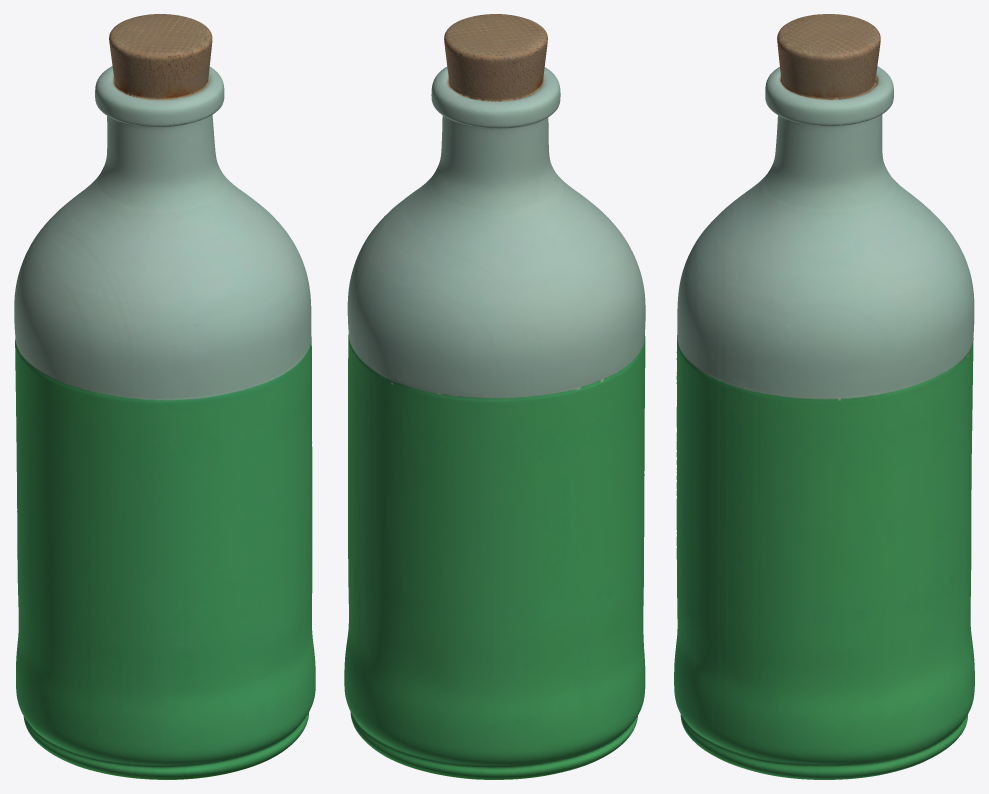
File: detailed_realistic_model_glass_02.glb
3 views of the same model, side by side, from view 1: azimuth 30°, elevation 25°; view 2: azimuth 150°, elevation 25°; view 3: azimuth 270°, elevation 25° (orthographic).
Visible parts, largest first — view 1: tripo_node_f630c77b-d243-4aad-b618-79b6006b86ef; view 2: tripo_node_f630c77b-d243-4aad-b618-79b6006b86ef; view 3: tripo_node_f630c77b-d243-4aad-b618-79b6006b86ef.
Part boxes in pixels (x1=…): tripo_node_f630c77b-d243-4aad-b618-79b6006b86ef: x1=14, y1=14, x2=315, y2=779; tripo_node_f630c77b-d243-4aad-b618-79b6006b86ef: x1=344, y1=14, x2=645, y2=779; tripo_node_f630c77b-d243-4aad-b618-79b6006b86ef: x1=674, y1=14, x2=974, y2=779.
Bounding box in the file's own units: 0.3928 × 1 × 0.3908.
Materials: 1 (1 with a texture image).
